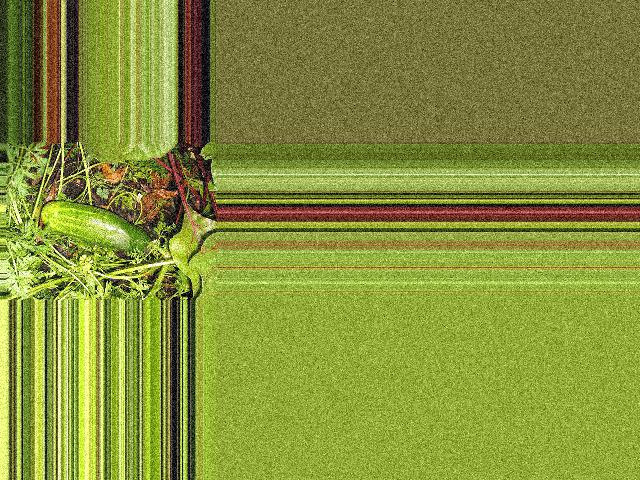cucumber: (43, 200, 151, 254)
